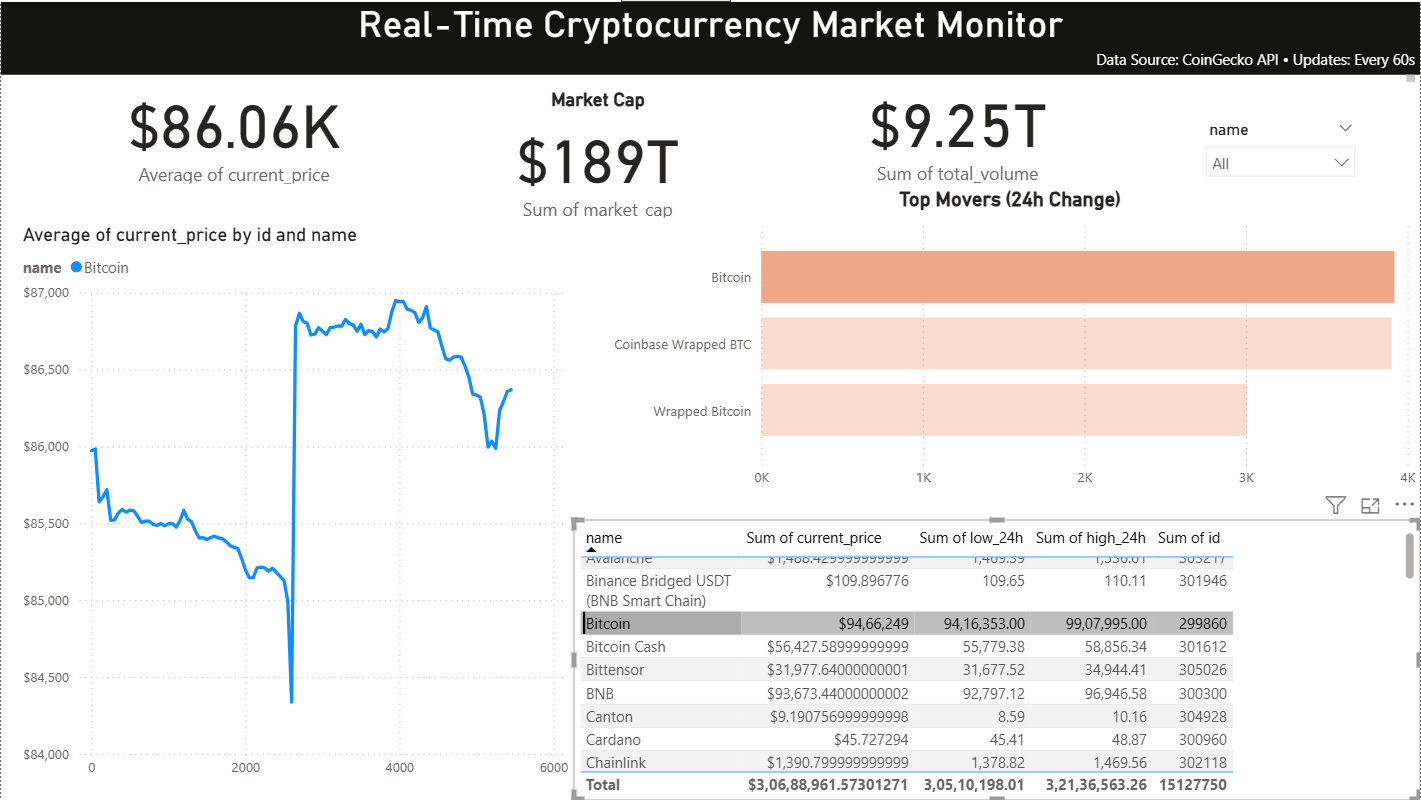

The page's visual inventory and layout, read from the dashboard file:
{"tool":"powerbi","page":{"name":"Page 1","canvas":[1280,720],"ordinal":0},"visuals":[{"type":"slicer","fields":{"Values":["df.name"]},"box":[1076.7,101.7,155,75],"z":0},{"type":"clusteredBarChart","title":"Top Movers (24h Change)","fields":{"Category":["df.name"],"Y":["Sum(df.price_change_24h)"]},"box":[538.3,166.7,741.7,280],"z":2000},{"type":"card","fields":{"Values":["Avg(df.current_price)"]},"box":[96.7,65,226.7,103.3],"z":3000},{"type":"card","fields":{"Values":["Sum(df.total_volume)"]},"box":[750,63.3,226.7,105],"z":4000},{"type":"card","title":"Market Cap","fields":{"Values":["Sum(df.market_cap)"]},"box":[425,78.3,226.7,121.7],"z":5000},{"type":"tableEx","fields":{"Values":["df.name","Sum(df.current_price)","Sum(df.low_24h)","Sum(df.high_24h)","Sum(df.id)"]},"box":[516.7,466.7,763.3,253.3],"z":6000},{"type":"lineChart","fields":{"Y":["Avg(df.current_price)"],"Category":["df.id"],"Series":["df.name"]},"box":[15,200,501.7,508.3],"z":6001},{"type":"textbox","title":"Real-Time Cryptocurrency Market Monitor","box":[0,0,1280,76.7],"z":6002}]}

Visuals, with their boxes in screenshot pixels (x1, y1, x2, y2), scaled from the page's 1280x720 canvas onto the 1421x800 screenshot:
slicer - df.name: select_region(1195, 113, 1367, 196)
"Top Movers (24h Change)" clusteredBarChart: select_region(598, 185, 1420, 496)
card - Avg(df.current_price): select_region(107, 72, 359, 187)
card - Sum(df.total_volume): select_region(833, 70, 1084, 187)
"Market Cap" card: select_region(472, 87, 723, 222)
tableEx - df.name x Sum(df.current_price): select_region(574, 519, 1420, 799)
lineChart - Avg(df.current_price) x df.id: select_region(17, 222, 574, 787)
"Real-Time Cryptocurrency Market Monitor" textbox: select_region(0, 0, 1420, 85)
